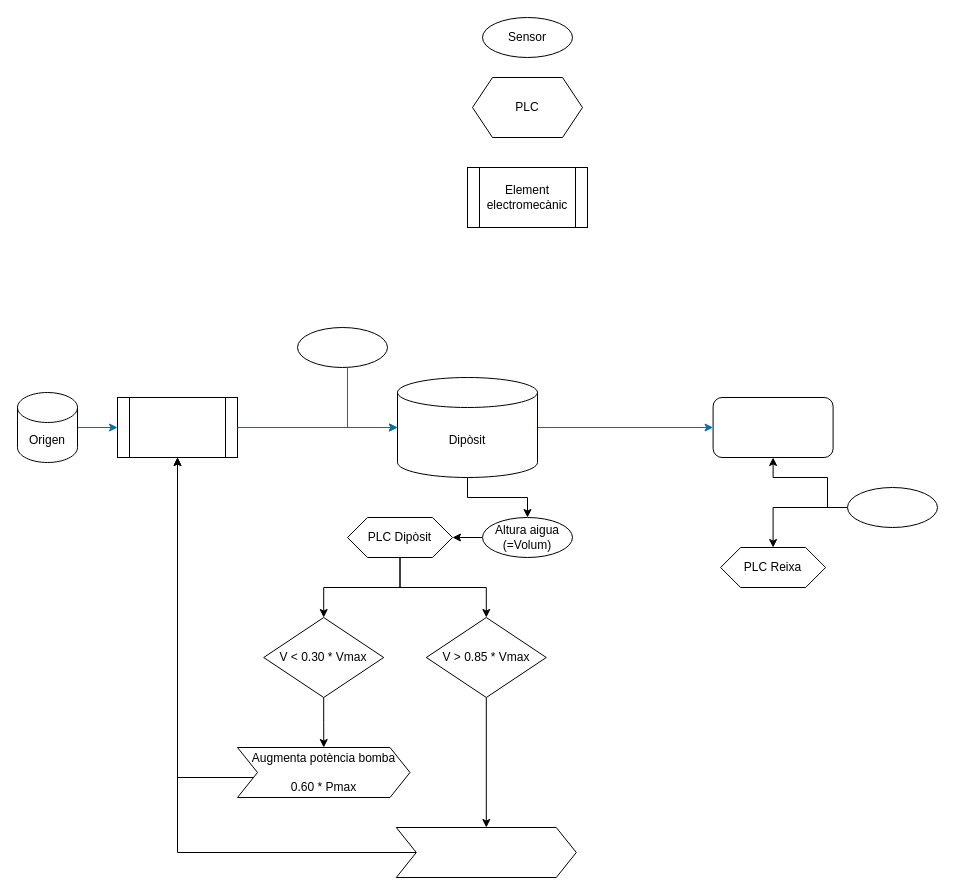
This 955x895 diagram has some shape labels left out. The centre of each missing label's shape, as x and y in pixels:
"Alçada aigua" belongs at point (892, 507).
"Baixa potència bomba 0.25 * Pmax" belongs at point (485, 852).
"Cabalimetre" belongs at point (342, 347).
"Estació bombeig" belongs at point (177, 427).
"Reixes" belongs at point (772, 427).
